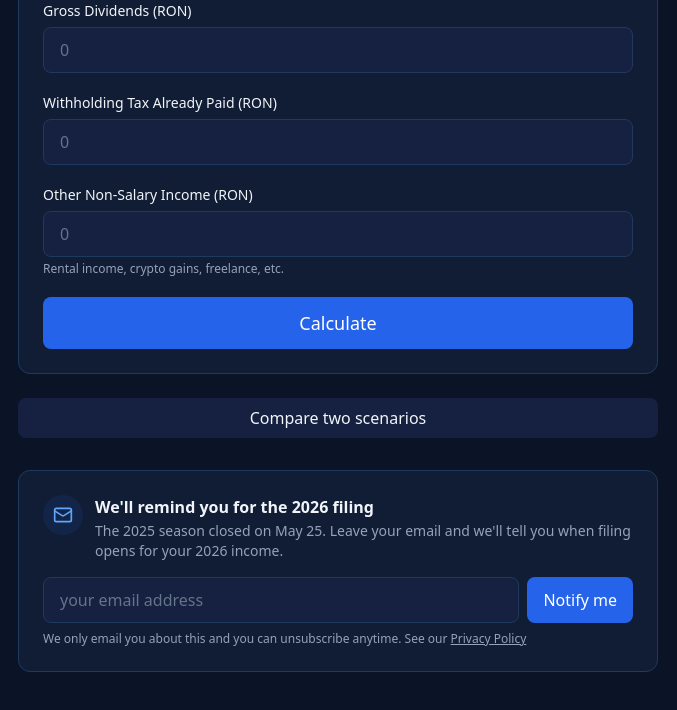
it: WhatIfSimulator › reveals the two scenario columns when the toggle is clicked
The width and height of the screenshot is (677, 710).
(page scrolled)
Click the button "Compare two scenarios": click(338, 418) [18, 398, 658, 438]
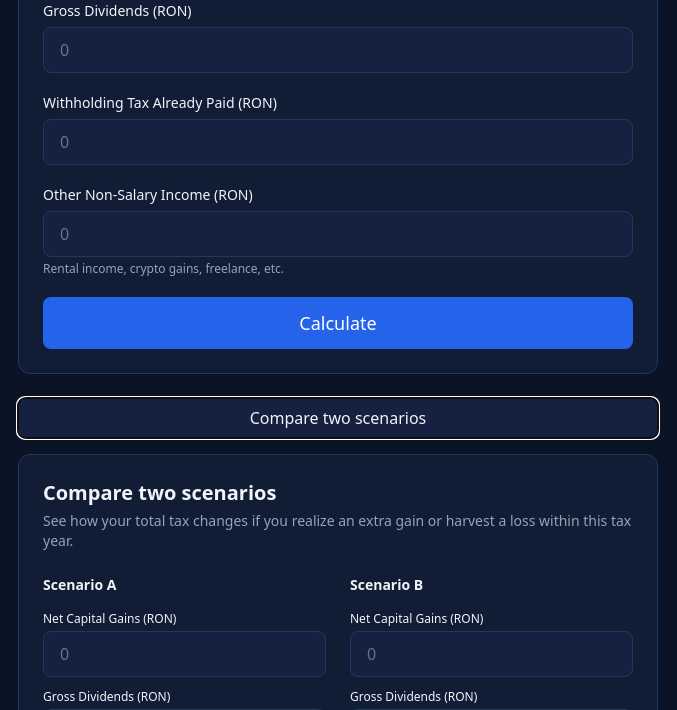
Expected: the text "Scenario A" is shown, [43, 575, 116, 595]
Expected: the text "Scenario B" is shown, [350, 575, 423, 595]
